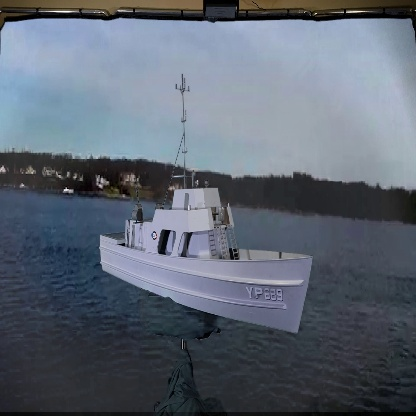YP689: (100, 74, 313, 332)
